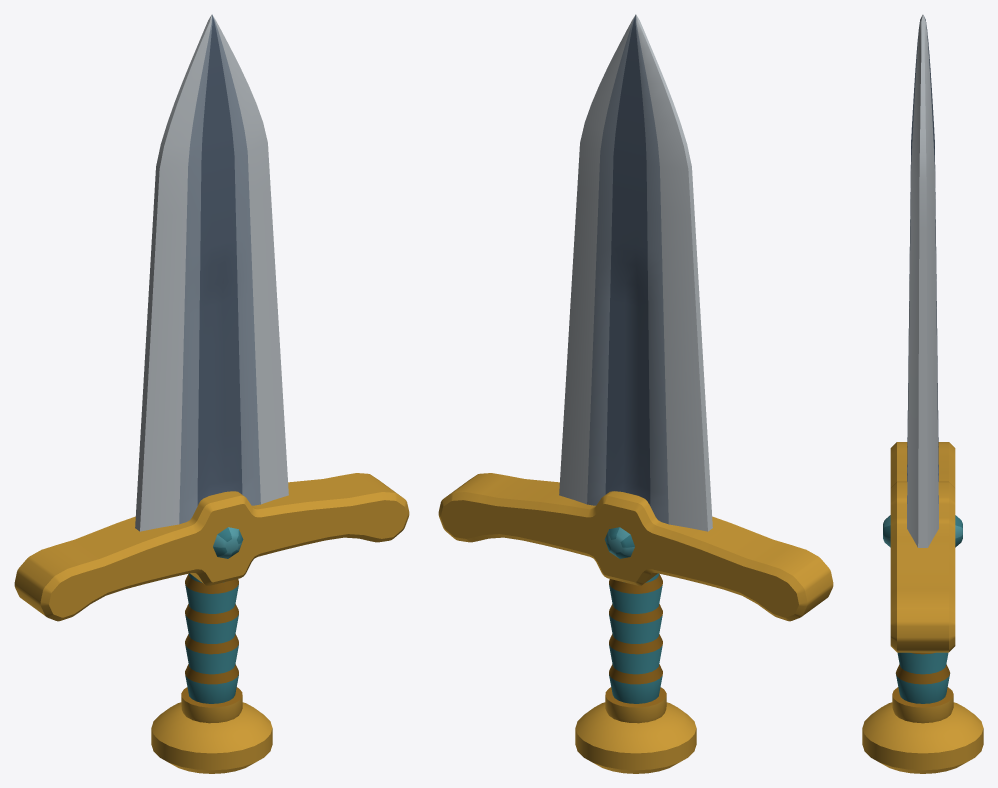
Rendered from Broadsword_14.glb.
The picture shows the model from 3 angles, left to right: view 1: azimuth 30°, elevation 25°; view 2: azimuth 150°, elevation 25°; view 3: azimuth 270°, elevation 25°; orthographic projection.
Parts seen in each view (by area): view 1: Broadsword_14; view 2: Broadsword_14; view 3: Broadsword_14.
Boxes of the visible parts, x1,y1,x2,y2 form: Broadsword_14: [14, 14, 409, 773]; Broadsword_14: [438, 14, 833, 773]; Broadsword_14: [862, 14, 983, 773].
Size of the model in its own units: 3.07 by 5.88 by 0.871.
